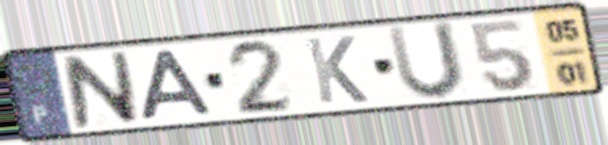2: (226, 38, 295, 116)
5: (465, 17, 538, 94)
A: (137, 47, 218, 124)
K: (302, 33, 372, 106)
N: (59, 49, 143, 131)
U: (383, 19, 469, 103)
